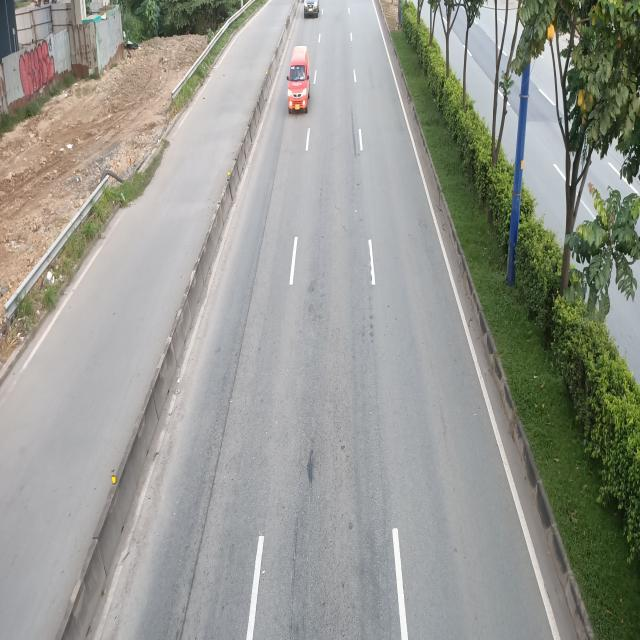van: (288, 47, 310, 113)
